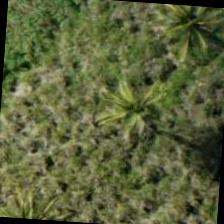Kelapa_Sawit: (142, 2, 223, 74)
